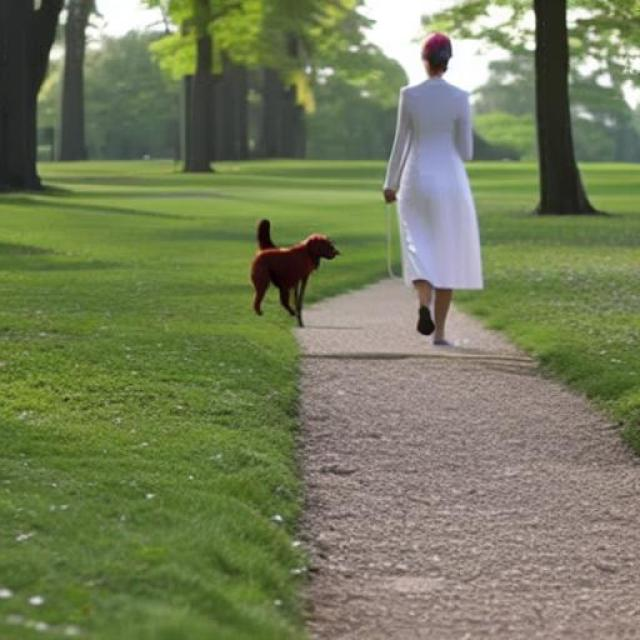Unleashed_Dog: (250, 188, 436, 329)
